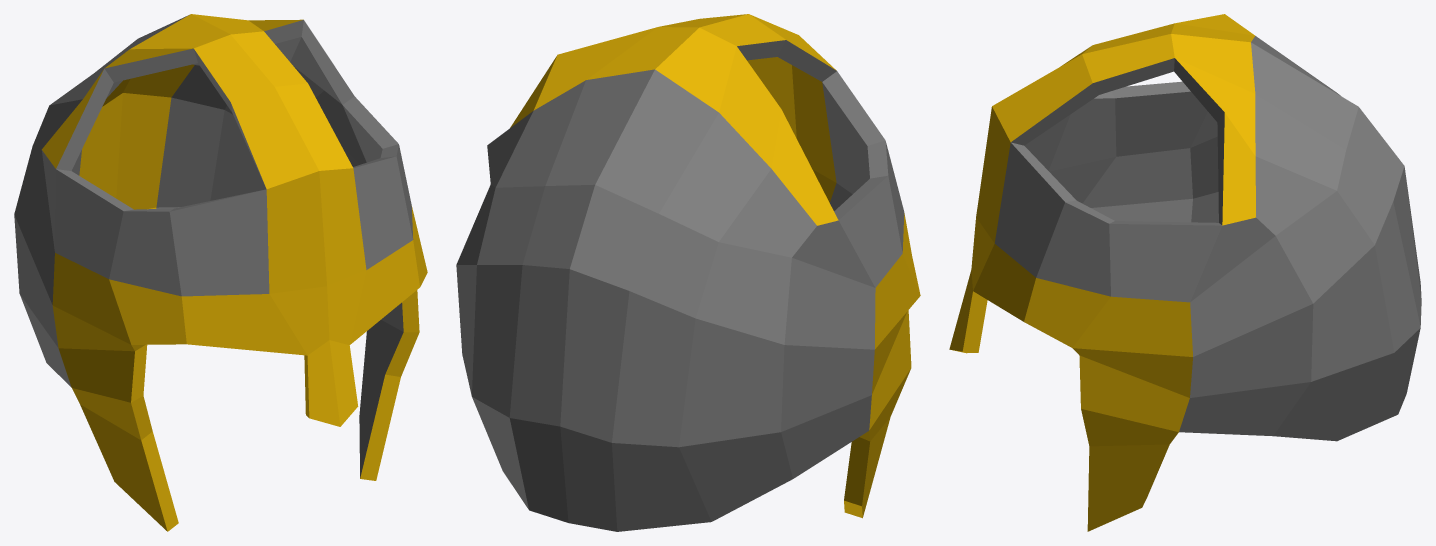
Rendered from Satyr_Helmet.fbx.
3 views of the same model, side by side, from view 1: azimuth 30°, elevation 25°; view 2: azimuth 150°, elevation 25°; view 3: azimuth 270°, elevation 25° (orthographic). The views are drawn at different scales.
Parts seen in each view (by area): view 1: Helmet; view 2: Helmet; view 3: Helmet.
Boxes of the visible parts, left/top/right/bottom form: Helmet: left=14, top=14, right=427, bottom=531; Helmet: left=456, top=14, right=920, bottom=531; Helmet: left=949, top=14, right=1421, bottom=531.
Bounding box in the file's own units: 31.63 × 39.95 × 38.28.
